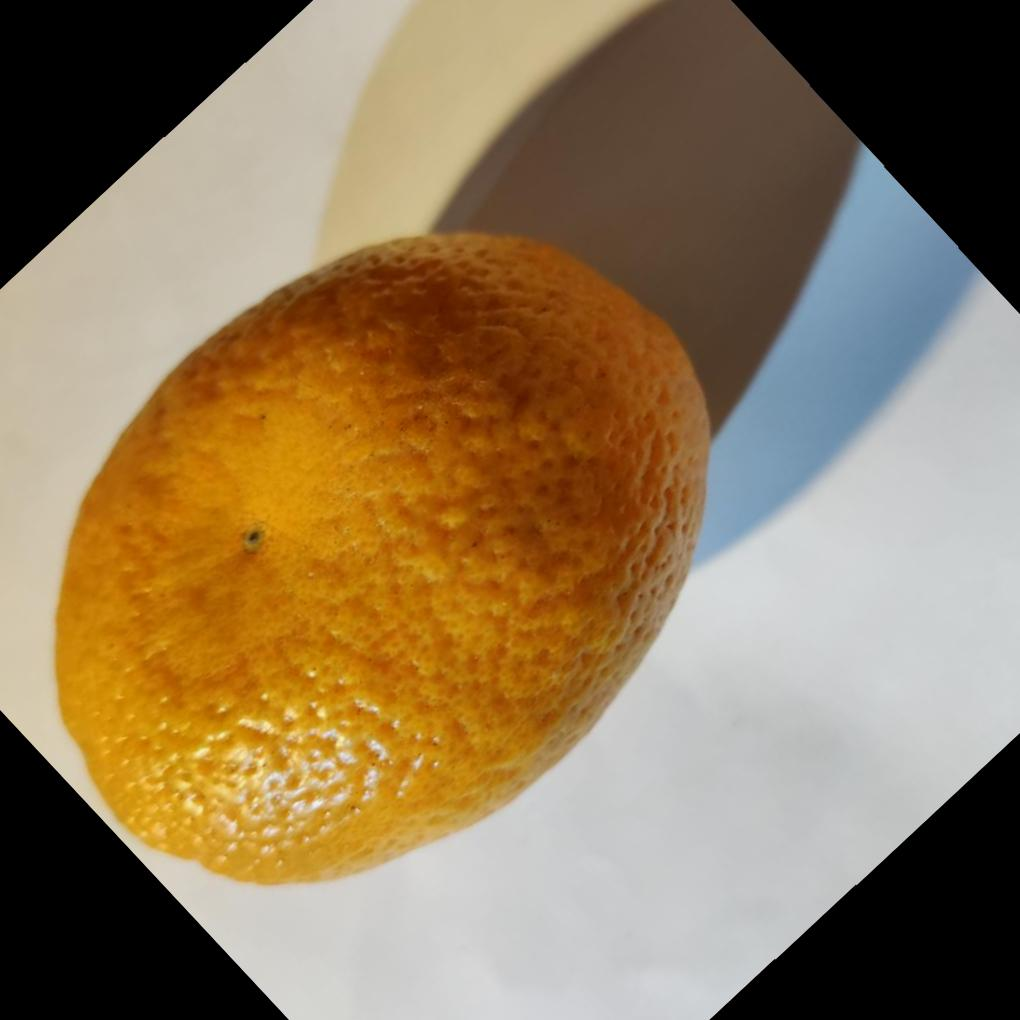FreshGuava: (48, 230, 710, 892)
